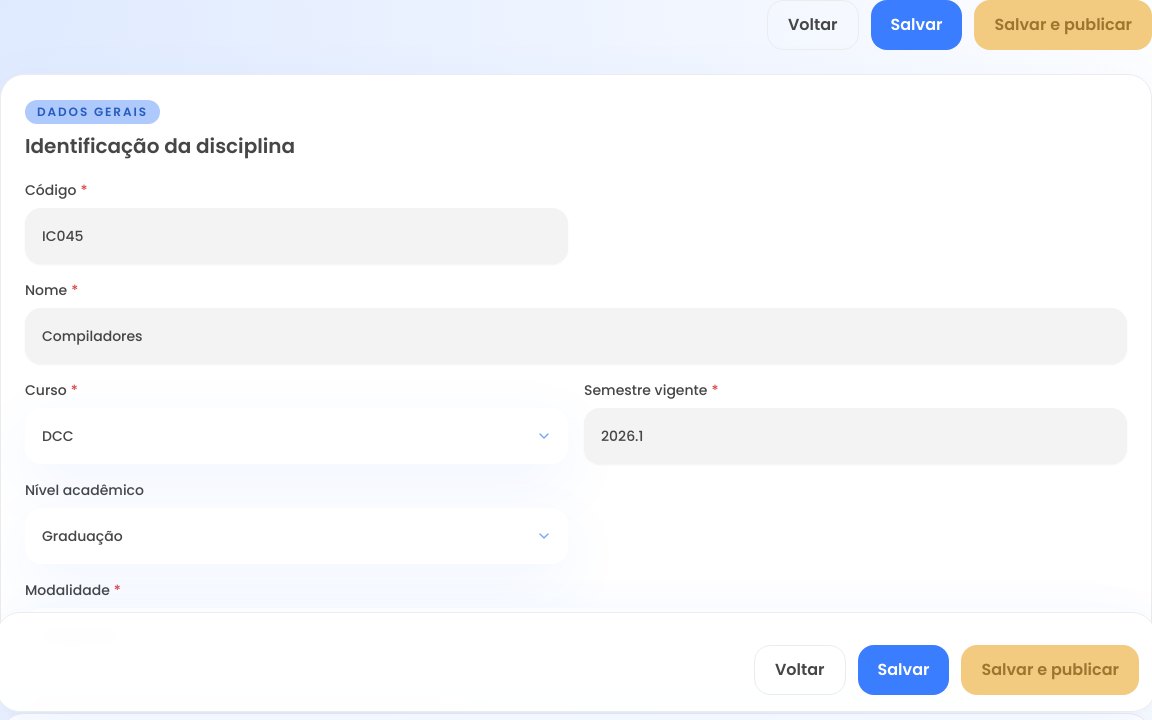
Test: DisciplineEditorForm publish validation › deve bloquear o salvamento comum e explicar quais campos precisam ser corrigidos
The width and height of the screenshot is (1152, 720).
What coordinates should you click on to do the following:
click the 2nd button "Salvar"
I would click on:
 (903, 670)
Its box is [858,645,949,695].
(page scrolled)
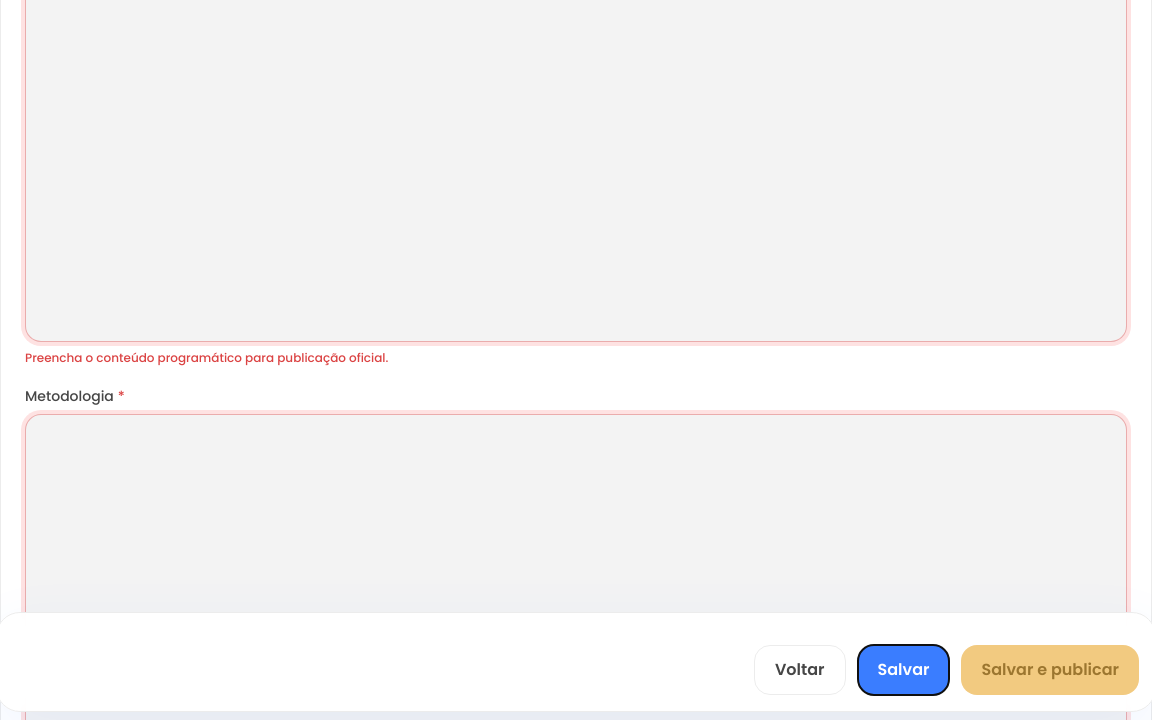
Now the text "Preencha o conteúdo programático para publicação oficial." is shown, box [25,349,388,366]
